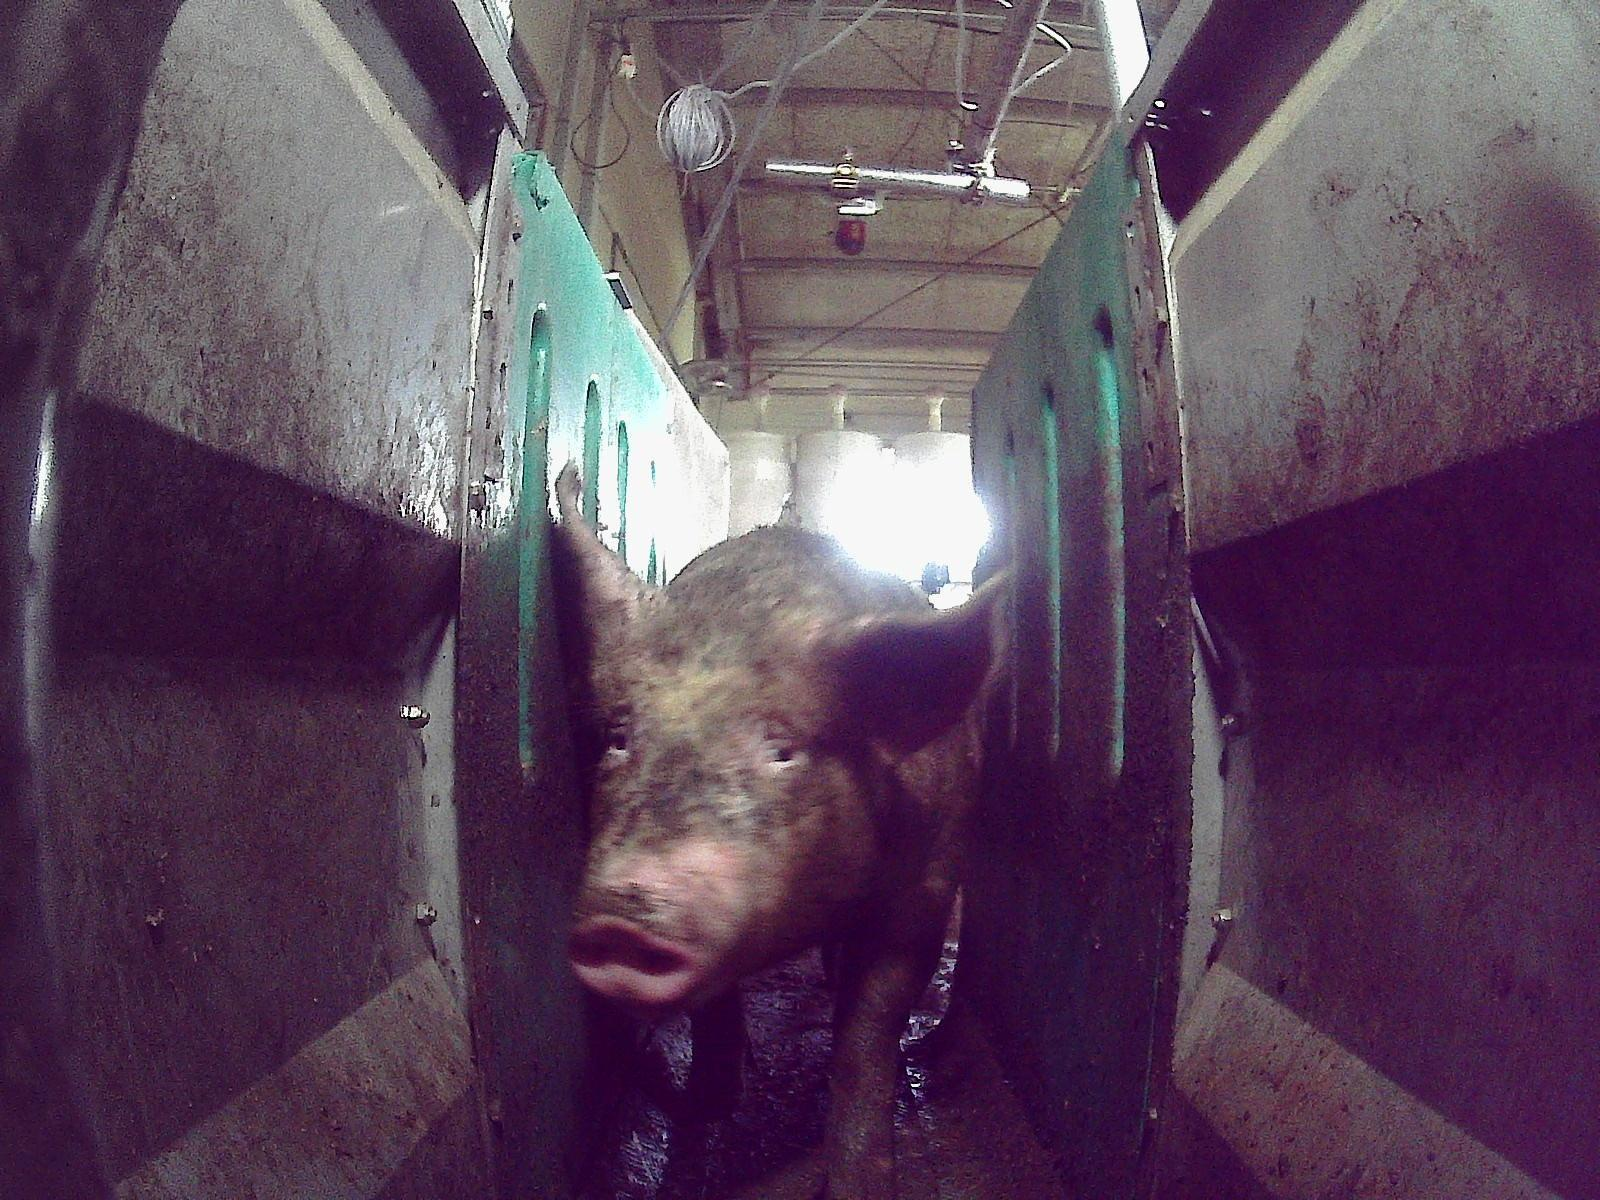Face: (565, 611, 864, 1006)
